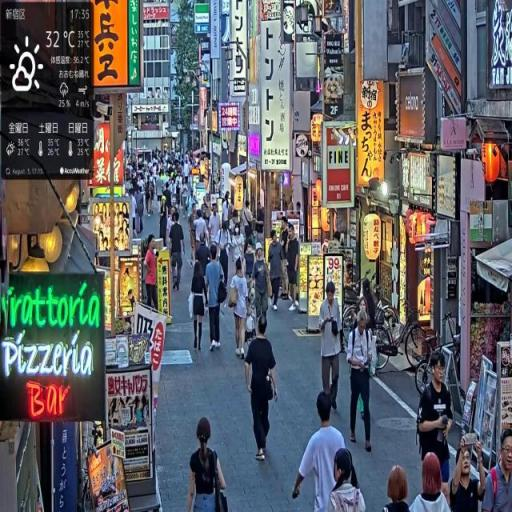person: (291, 390, 348, 512), (416, 350, 455, 495), (245, 316, 280, 464), (348, 305, 377, 454), (188, 416, 229, 512), (319, 281, 344, 412), (450, 434, 489, 512), (327, 446, 368, 512), (482, 428, 512, 512), (410, 452, 452, 512), (206, 244, 227, 355), (229, 258, 251, 361), (251, 246, 273, 335), (190, 261, 209, 355), (267, 229, 286, 313), (169, 211, 187, 294), (286, 227, 302, 309), (385, 467, 412, 512), (144, 237, 160, 312)
